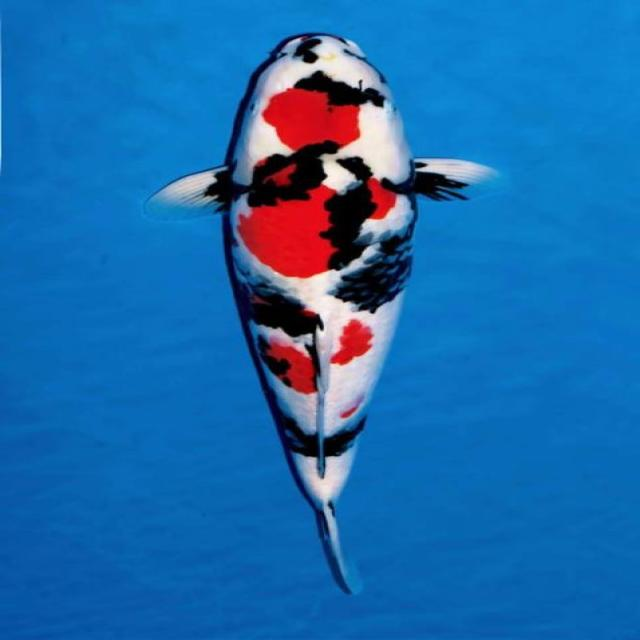Showa: (142, 31, 498, 594)
